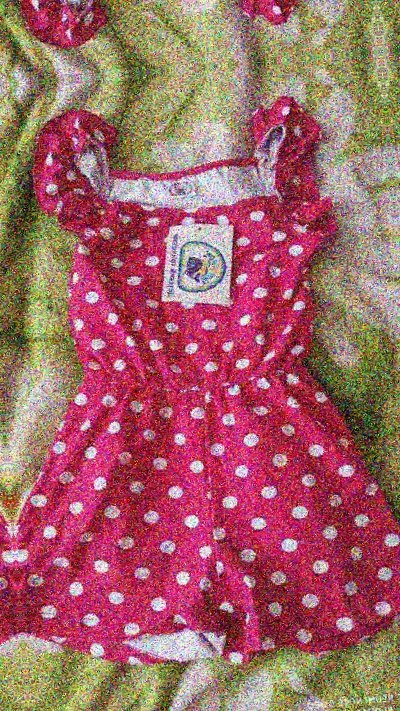Dress: (0, 69, 400, 700), (0, 0, 368, 70), (0, 105, 28, 711), (394, 32, 400, 663), (338, 0, 400, 33)
